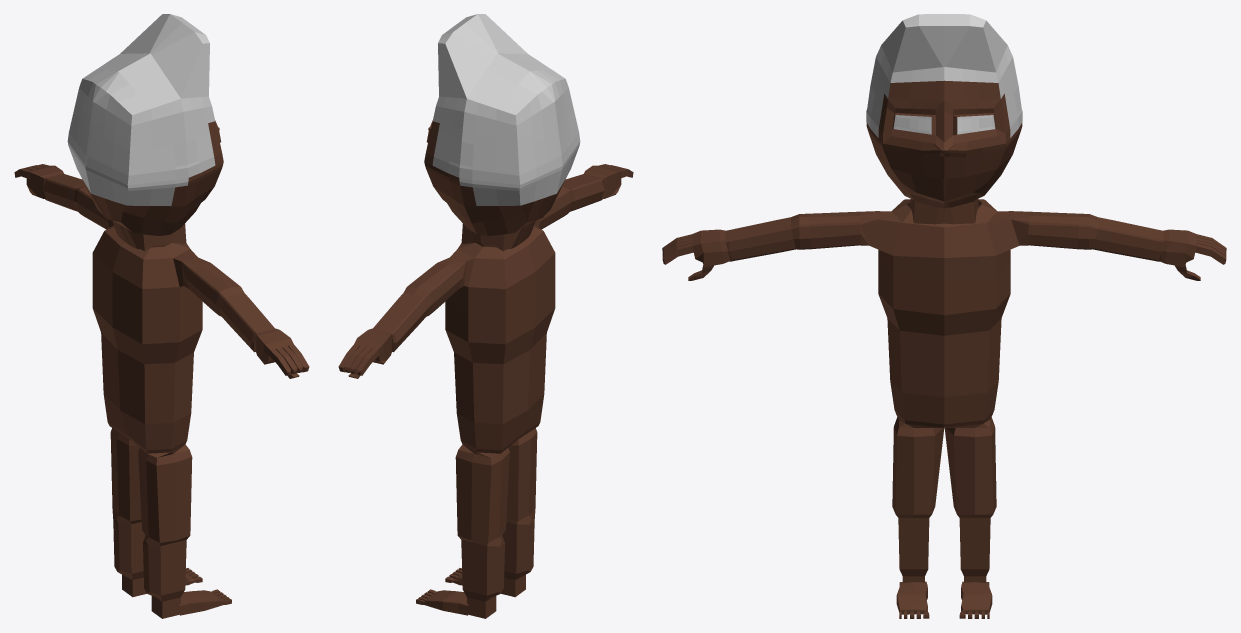
The model's file is human2.obj.
The picture shows the model from 3 angles, left to right: view 1: azimuth 30°, elevation 25°; view 2: azimuth 150°, elevation 25°; view 3: azimuth 270°, elevation 25°; orthographic projection. The views are drawn at different scales.
Parts seen in each view (by area): view 1: Cube.001; view 2: Cube.001; view 3: Cube.001.
Part boxes in pixels (x1,y1,x2,y2): Cube.001: [14, 14, 309, 618]; Cube.001: [338, 14, 633, 618]; Cube.001: [662, 14, 1226, 618].
Size of the model in its own units: 3.1 by 12.63 by 10.93.
